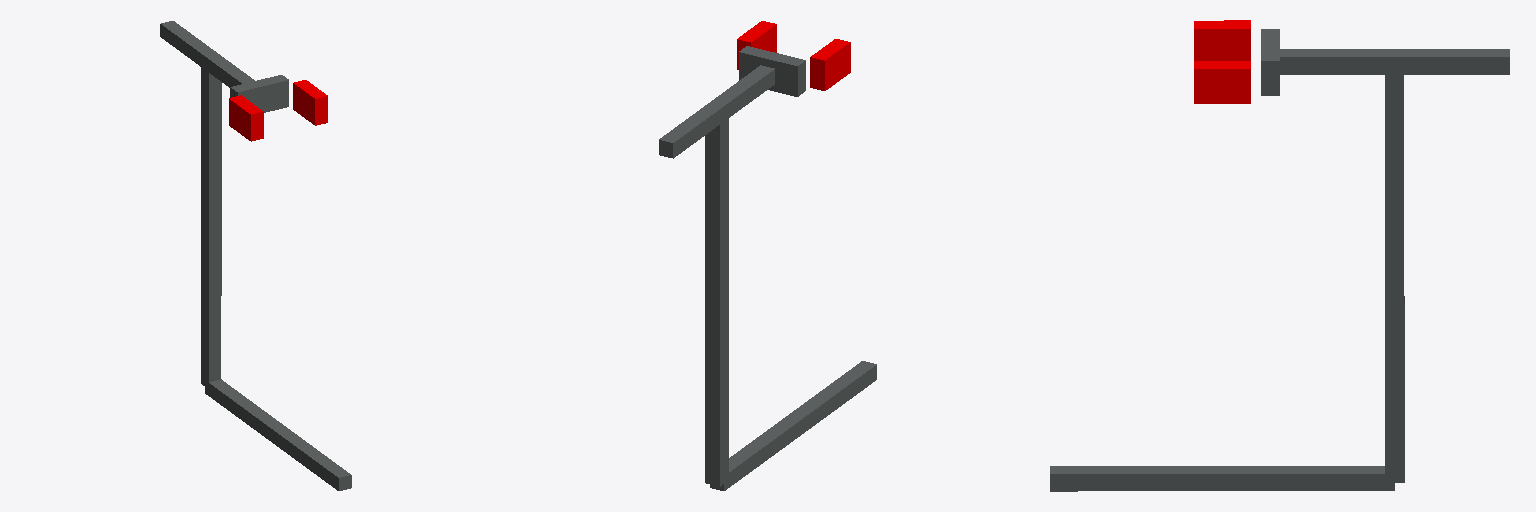
robot.urdf — robot:
<robot name="robot">
    <link name="world" />
    <joint name="base_joint" type="fixed">
        <origin xyz="-1.5 0 0" rpy="-1.57 0 0" />
        <parent link="world" />
        <child link="base" />
    </joint>
    <link name="base">
        <collision>
            <origin xyz="0 0 0" rpy="0 -0 0" />
            <geometry>
                <box size="0.1 0.1 0.8" />
            </geometry>
        </collision>
        <visual>
            <origin xyz="0 0 0" rpy="0 -0 0" />
            <geometry>
                <box size="0.1 0.1 1.8" />
            </geometry>
            <material name="">
                <color rgba="0.403 0.424 0.420 1"/>
            </material>
        </visual>
    </link>
    <joint name="link1_joint" type="revolute">
        <origin xyz="0 0 0.9" rpy="0 1.5708 3.14159" />
        <parent link="base" />
        <child link="link1" />
        <limit effort="0" velocity="0" lower="-3.14159" upper="3.14159" />
    </joint>
    <link name="link1">
        <collision>
            <origin xyz="-0.0 0.4 0" rpy="3.14159 -1.5708 3.14159" />
            <geometry>
                <box size="0.1 0.8 0.1" />
            </geometry>
        </collision>
        <visual>
            <origin xyz="-0.0 0.4 0" rpy="3.14159 -1.5708 3.14159" />
            <geometry>
                <box size="0.1 0.8 0.1" />
            </geometry>
            <material name="">
                <color rgba="0.403 0.424 0.420 1"/>
            </material>
        </visual>
    </link>
    <joint name="link2_joint" type="revolute">
        <origin xyz="-0.0 0.8 0" rpy="0 -0 0" />
        <parent link="link1" />
        <child link="link2" />
        <limit effort="0" velocity="0" lower="-3.14159" upper="3.14159" />
    </joint>
    <link name="link2">
        <collision>
            <origin xyz="-0.0 0.4 0" rpy="3.14159 -1.5708 3.14159" />
            <geometry>
                <box size="0.1 0.8 0.1" />
            </geometry>
        </collision>
        <visual>
            <origin xyz="-0.0 0.4 0" rpy="3.14159 -1.5708 3.14159" />
            <geometry>
                <box size="0.1 0.8 0.1" />
            </geometry>
            <material name="">
                <color rgba="0.403 0.424 0.420 1"/>
            </material>
        </visual>
    </link>
    <joint name="link25_joint" type="revolute">
        <origin xyz="-0.0 0.8 0" rpy="0 -0 0" />
        <parent link="link2" />
        <child link="link25" />
        <limit effort="0" velocity="0" lower="-3.14159" upper="3.14159" />
    </joint>
    <link name="link25">
        <collision>
            <origin xyz="-0.0 0.4 0" rpy="3.14159 -1.5708 3.14159" />
            <geometry>
                <box size="0.1 0.8 0.1" />
            </geometry>
        </collision>
        <visual>
            <origin xyz="-0.0 0.4 0" rpy="3.14159 -1.5708 3.14159" />
            <geometry>
                <box size="0.1 0.8 0.1" />
            </geometry>
            <material name="">
                <color rgba="0.403 0.424 0.420 1"/>
            </material>
        </visual>
    </link>
    <joint name="link3_joint" type="prismatic">
        <origin xyz="-0.0 0.8 0" rpy="0 -0 0" />
        <parent link="link25" />
        <child link="link3" />
        <limit effort="0" velocity="0" lower="-5" upper="5" />
    </joint>
    <link name="link3">
        <collision>
            <origin xyz="0 0 0" rpy="1.5708 -1.5708 3.14159" />
            <geometry>
                <!-- <capsule radius="0.2"length="2" /> -->
                <box size="0.1 1.2 0.1"/>
            </geometry>
        </collision>
        <visual>
            <origin xyz="0 0 0" rpy="1.5708 -1.5708 3.14159" />
            <geometry>
                <!-- <capsule radius="0.2"length="2" /> -->
                <box size="0.1 1.2 0.1"/>
            </geometry>
            <material name="">
                <color rgba="0.403 0.424 0.420 1"/>
            </material>
        </visual>
    </link>
    <joint name="end_effctor_joint" type="revolute">
        <origin xyz="0.6 0 0" rpy="1.5708 -0 3.14159" />
        <parent link="link3" />
        <child link="end_effector" />
        <limit effort="0" velocity="0" lower="-3.14159" upper="3.14159" />
    </joint>
    <link name="end_effector">
        <collision>
            <origin xyz="-0.05 0 0" rpy="0 1.5708 0" />
            <geometry>
                <box size="0.2 0.4 0.1" />
            </geometry>
        </collision>
        <visual>
            <origin xyz="-0.05 0 0" rpy="0 1.5708 0" />
            <geometry>
                <box size="0.2 0.4 0.1" />
            </geometry>
            <material name="">
                <color rgba="0.403 0.424 0.420 1"/>
            </material>
        </visual>
    </link>
    <joint name="left_pad_joint" type="prismatic">
        <origin xyz="-0.05 -0.25 0.0" rpy="0 -0 1.5708" />
        <parent link="end_effector" />
        <child link="left_pad" />
        <limit effort="0" velocity="0" lower="0" upper="0.2" />
    </joint>
    <link name="left_pad">
        <collision>
            <origin xyz="0 0.25 0" rpy="0 -0 0" />
            <geometry>
                <box size="0.1 0.3 0.2" />
            </geometry>
        </collision>
        <visual>
            <origin xyz="0 0.25 0" rpy="0 -0 0" />
            <geometry>
                <box size="0.1 0.3 0.2" />
            </geometry>
            <material name="">
                <color rgba="1 0 0 1"/>
            </material>
        </visual>
    </link>
    <joint name="right_pad_joint" type="prismatic">
        <origin xyz="-0.05 0.25 0.0" rpy="0 3.14 1.5708" />
        <parent link="end_effector" />
        <child link="right_pad" />
        <limit effort="0" velocity="0" lower="0" upper="0.2" />
    </joint>
    <link name="right_pad">
        <collision>
            <origin xyz="0 0.25 0" rpy="0 -0 0" />
            <geometry>
                <box size="0.1 0.3 0.2" />
            </geometry>
        </collision>
        <visual>
            <origin xyz="0 0.25 0" rpy="0 -0 0" />
            <geometry>
                <box size="0.1 0.3 0.2" />
            </geometry>
            <material name="">
                <color rgba="1 0 0 1"/>
            </material>
        </visual>
    </link>
</robot>

--- What the picture shows (computed from the rendered views, not written in the file) ---
The picture shows the robot from 3 angles, left to right: view 1: azimuth 30°, elevation 25°; view 2: azimuth 150°, elevation 25°; view 3: azimuth 270°, elevation 25°; orthographic projection.
Robot: robot — 9 links, 8 joints (4 revolute, 3 prismatic, 1 fixed); root link world; default pose: every joint at zero.
Visible links, largest first — view 1: base, link2, link1, link3, link25, end_effector, right_pad, left_pad; view 2: base, link3, link2, link1, link25, end_effector, right_pad, left_pad; view 3: base, link3, link1, link2, link25, left_pad, right_pad, end_effector.
Link boxes in pixels (<box>): base: <box>205,379,351,490</box>; link2: <box>201,168,221,280</box>; link1: <box>201,276,221,385</box>; link3: <box>160,21,254,87</box>; link25: <box>201,63,221,173</box>; end_effector: <box>230,75,288,112</box>; right_pad: <box>229,95,263,141</box>; left_pad: <box>293,80,327,125</box>; base: <box>710,361,876,490</box>; link3: <box>659,65,774,158</box>; link2: <box>705,234,728,362</box>; link1: <box>705,357,728,486</box>; link25: <box>705,111,728,239</box>; end_effector: <box>739,46,805,96</box>; right_pad: <box>810,39,850,90</box>; left_pad: <box>737,21,776,69</box>; base: <box>1050,466,1394,491</box>; link3: <box>1280,49,1509,74</box>; link1: <box>1385,344,1404,482</box>; link2: <box>1385,205,1404,343</box>; link25: <box>1385,66,1403,204</box>; left_pad: <box>1194,61,1250,103</box>; right_pad: <box>1194,20,1250,60</box>; end_effector: <box>1261,29,1279,95</box>.
Bounding box of the posed robot: 0.6002 × 2.4 × 2.55 m (x, y, z).
Geometry: primitives only (box / cylinder / sphere), no mesh files.